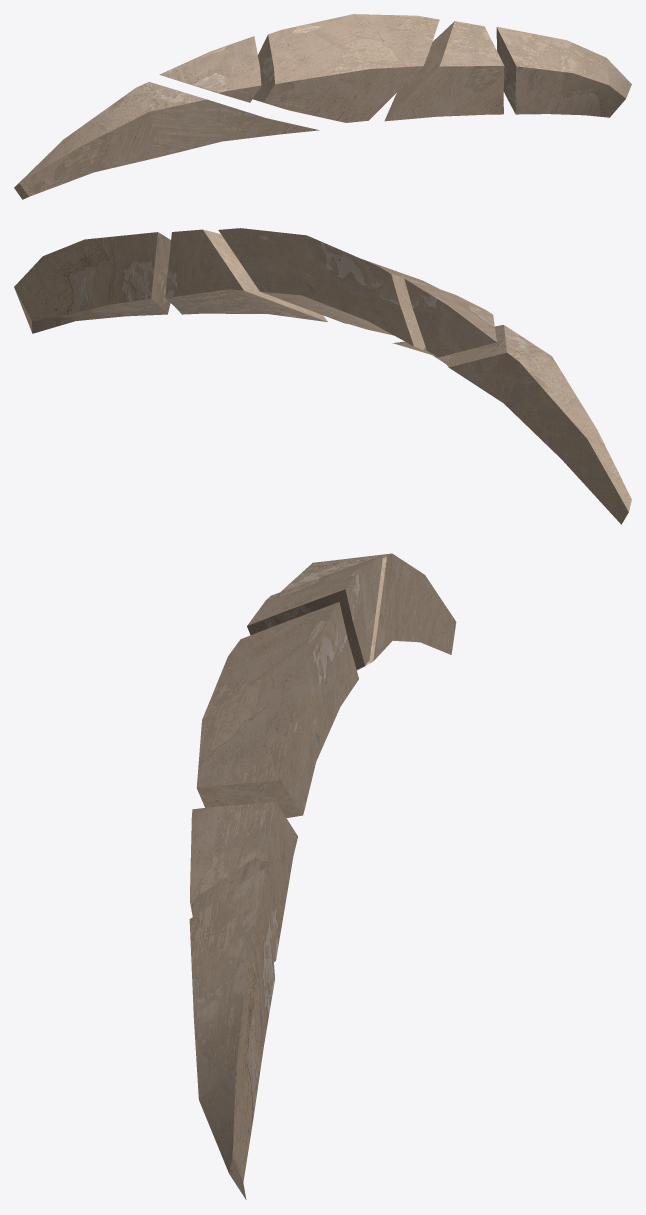
Rendered from eyebrow-L-Broken.fbx.
The picture shows the model from 3 angles, top to bottom: view 1: azimuth 30°, elevation 25°; view 2: azimuth 150°, elevation 25°; view 3: azimuth 270°, elevation 25°; orthographic projection. The views are drawn at different scales.
Parts seen in each view (by area): view 1: eyebrow-L.002, eyebrow-L.004, eyebrow-L.001, eyebrow-L.003, eyebrow-L.005; view 2: eyebrow-L.002, eyebrow-L.004, eyebrow-L.001, eyebrow-L.003, eyebrow-L.005; view 3: eyebrow-L.002, eyebrow-L.001, eyebrow-L.003, eyebrow-L.004, eyebrow-L.005.
Boxes of the visible parts, <box> form: eyebrow-L.002: <box>253,14,439,122</box>; eyebrow-L.004: <box>14,82,319,199</box>; eyebrow-L.001: <box>496,26,631,117</box>; eyebrow-L.003: <box>384,21,504,121</box>; eyebrow-L.005: <box>159,36,261,102</box>; eyebrow-L.002: <box>218,228,438,349</box>; eyebrow-L.004: <box>392,325,631,524</box>; eyebrow-L.001: <box>14,232,170,333</box>; eyebrow-L.003: <box>165,229,327,321</box>; eyebrow-L.005: <box>404,278,496,357</box>; eyebrow-L.002: <box>196,602,358,818</box>; eyebrow-L.001: <box>189,867,275,1199</box>; eyebrow-L.003: <box>190,802,297,961</box>; eyebrow-L.004: <box>281,553,456,670</box>; eyebrow-L.005: <box>247,555,383,669</box>.
Bounding box in the file's own units: 3.82 × 0.9831 × 0.7859.
